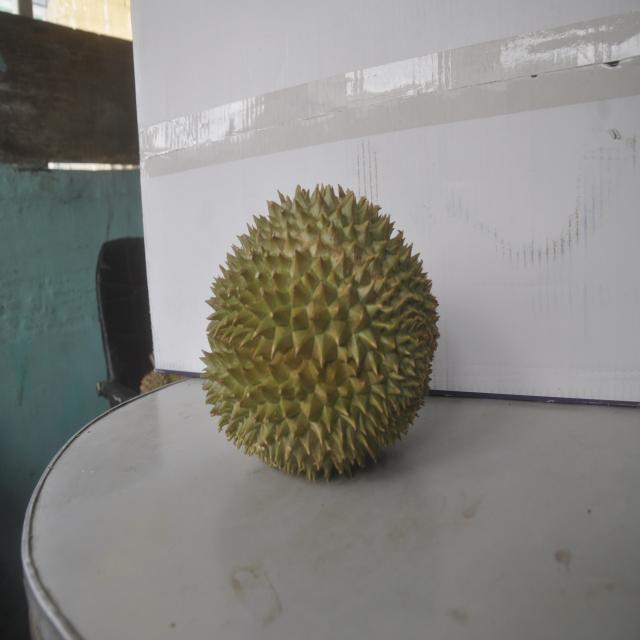mature: (201, 180, 437, 484)
